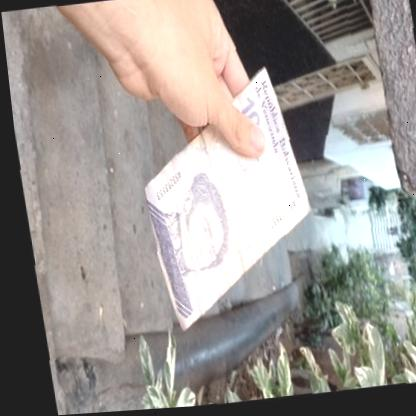ten-front-vef: (121, 67, 320, 335)
